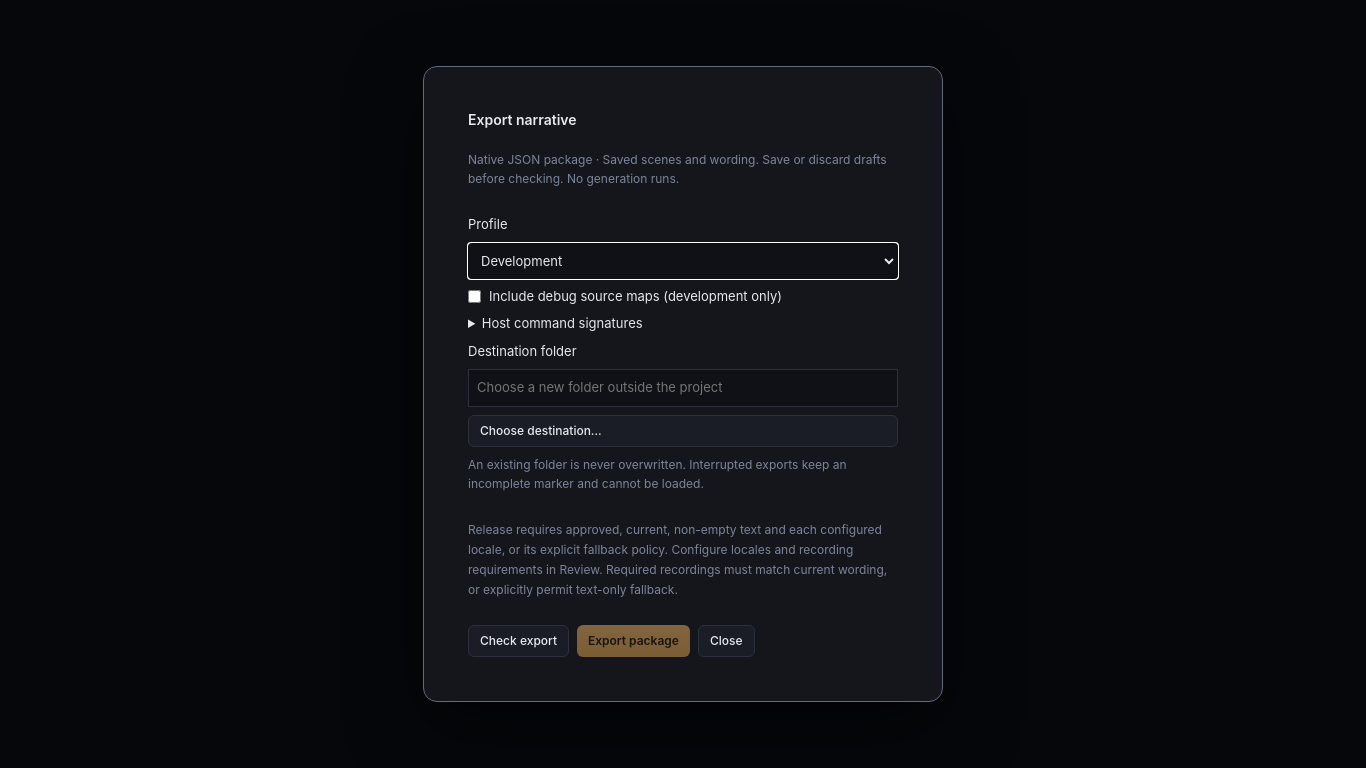
Test: Narrative export › keeps failure visible and requires a new check after source drift or destination failure
In the field labelled "Destination folder": (683, 388) [468,369,898,407], type "/exports/story"
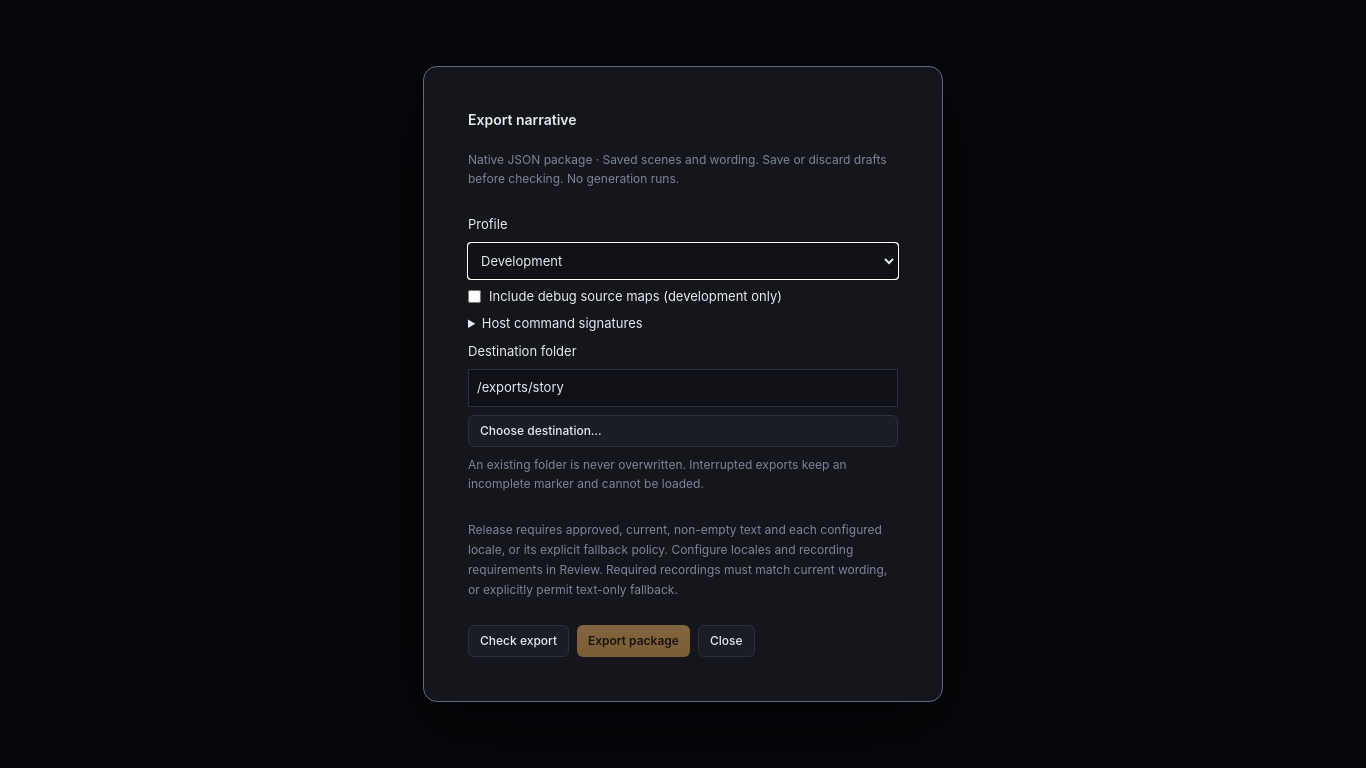
Click the button "Check export": (518, 641) [468,625,569,657]
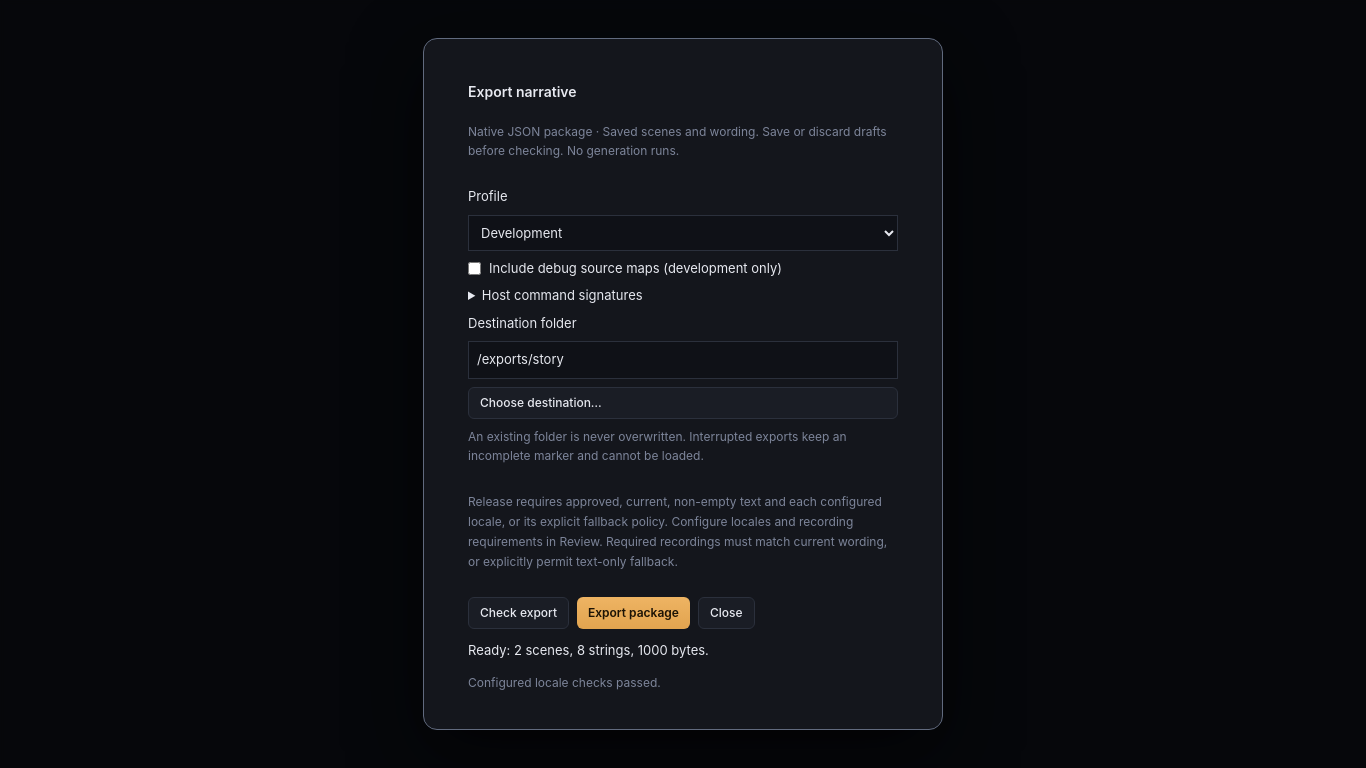
Check: the text "Ready: 2 scenes, 8 strings, 1000 bytes." is shown, box [468,642,709,658]
Click the button "Export package": (633, 614) [577,598,690,630]
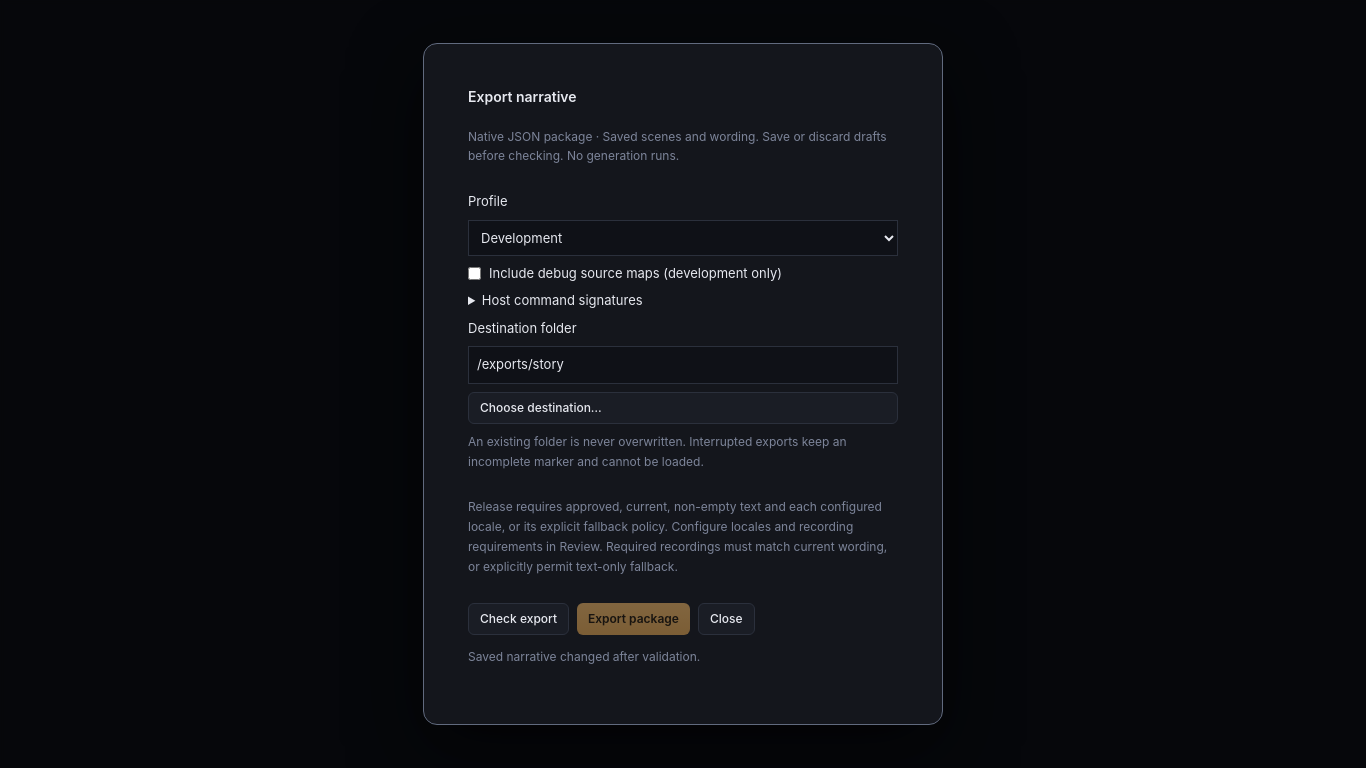
Check: the message shows "Saved narrative changed", box [468,648,700,664]
Check: the button "Export package" is disabled, box [577,602,690,634]
